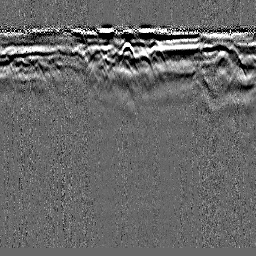cavity: (119, 40, 135, 59)
